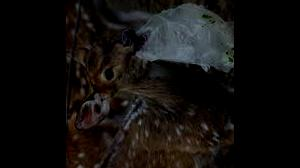Plastic: (125, 0, 233, 72)
